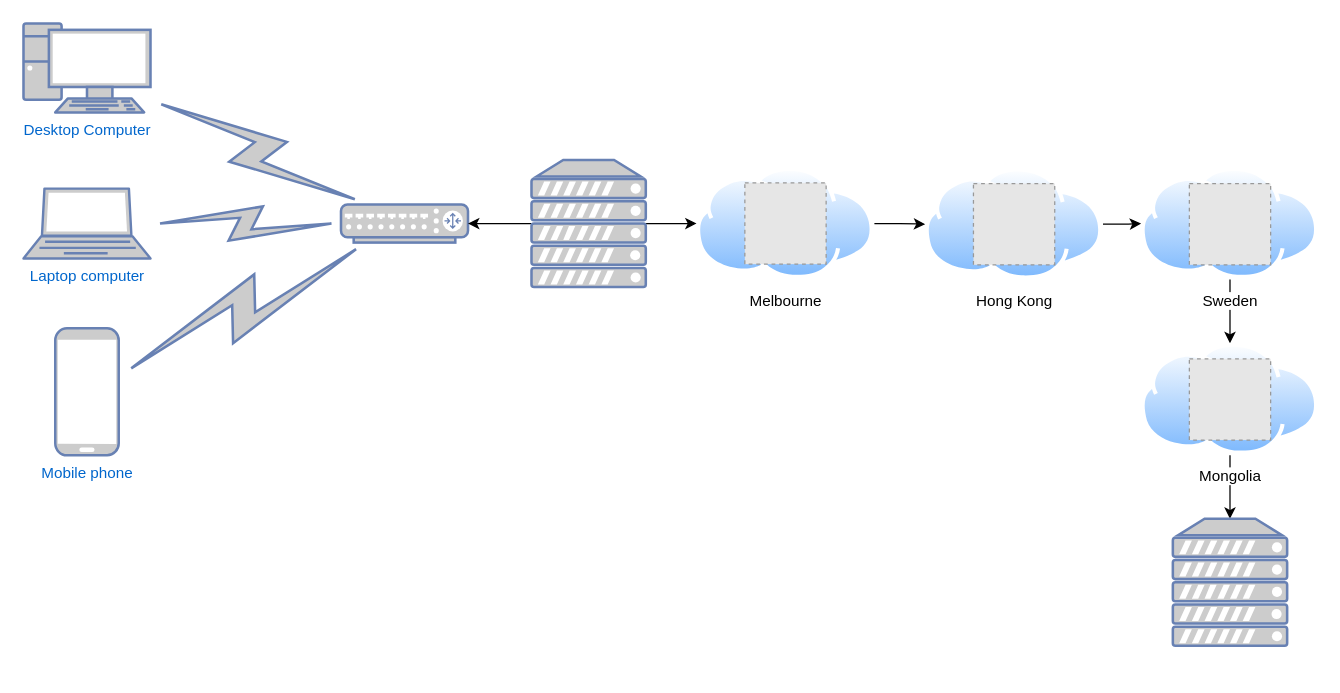
Image size: 1340x693. Some labels were removed from this diagram. Grey dashed boxes stand in for pictures. The centre of each missing label's shape, as x and y in pixels:
https://www.num.edu.mn/: point 1229,581
NBN (Sydney): point 588,223
Router / ISP: point 404,223
